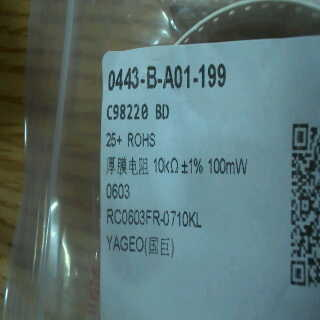10kR: (150, 153, 180, 178)
